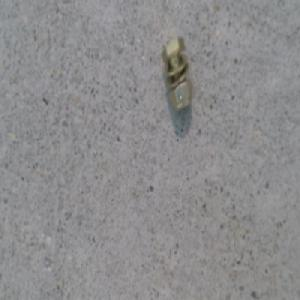BoltNutSet: (160, 36, 190, 113)
